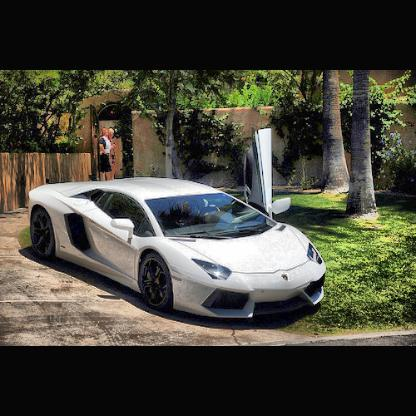Lamborghini Aventador Coupe 2012: (28, 131, 330, 325)
